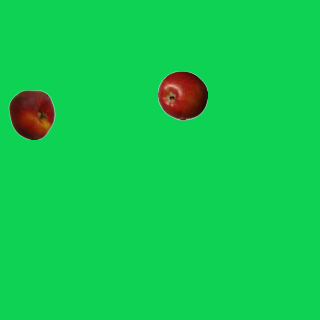Apple Braeburn: (157, 70, 207, 120)
Nectarine Flat: (6, 89, 56, 139)
